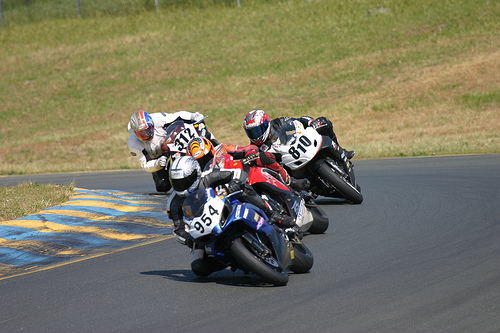helmet: (125, 112, 156, 138), (167, 162, 197, 187), (242, 114, 269, 140), (182, 140, 213, 159)
